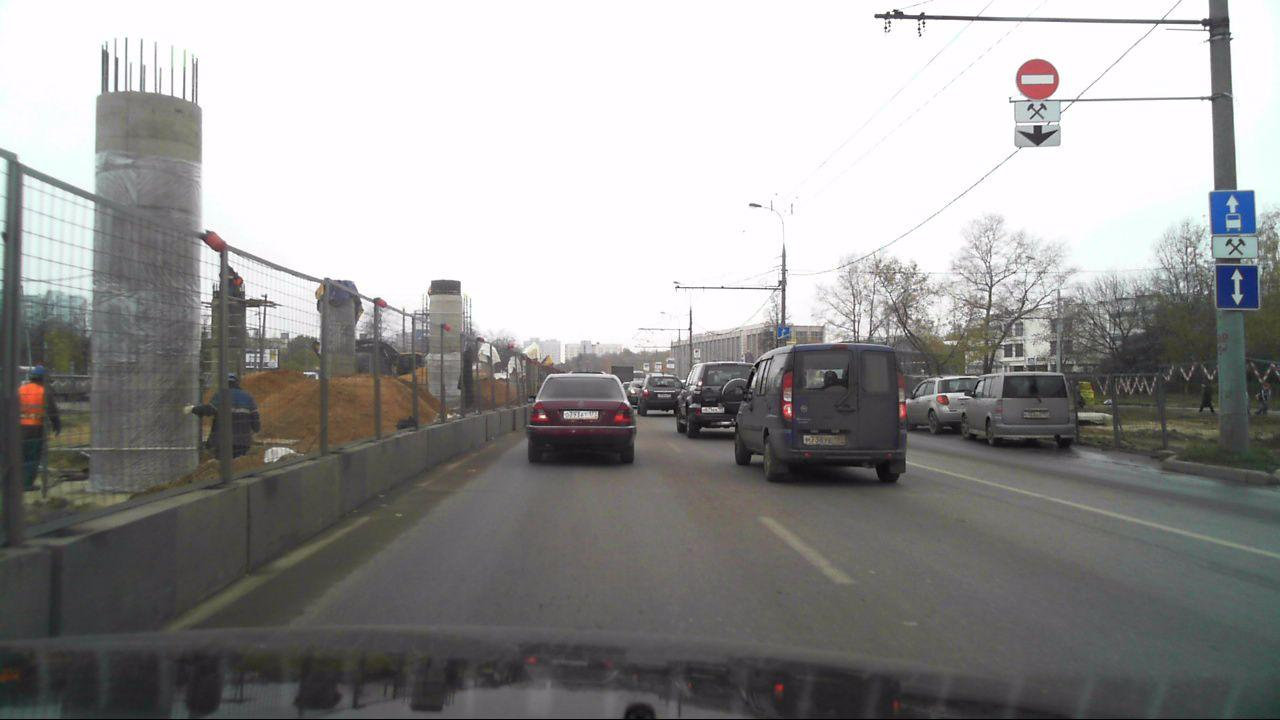3_1: (1013, 59, 1060, 99)
5_14_1: (1208, 189, 1257, 232)
5_8: (1214, 265, 1258, 311)
6_6: (776, 326, 790, 340)
8_14: (1013, 125, 1062, 148)
8_5_2: (1012, 101, 1061, 124), (1210, 237, 1258, 260)
